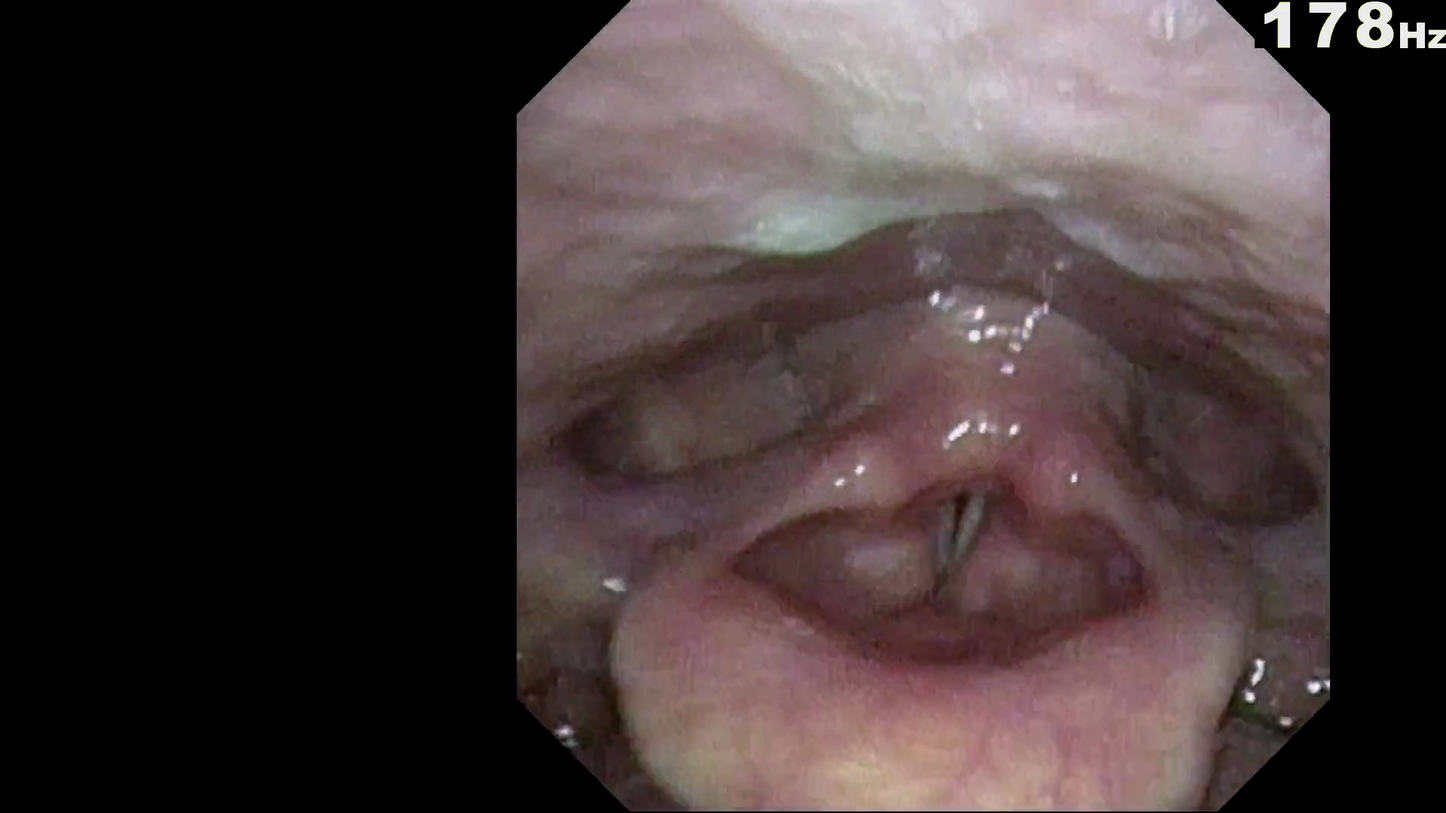epiglottis: (646, 466, 1210, 657)
trachea: (882, 421, 1037, 503)
